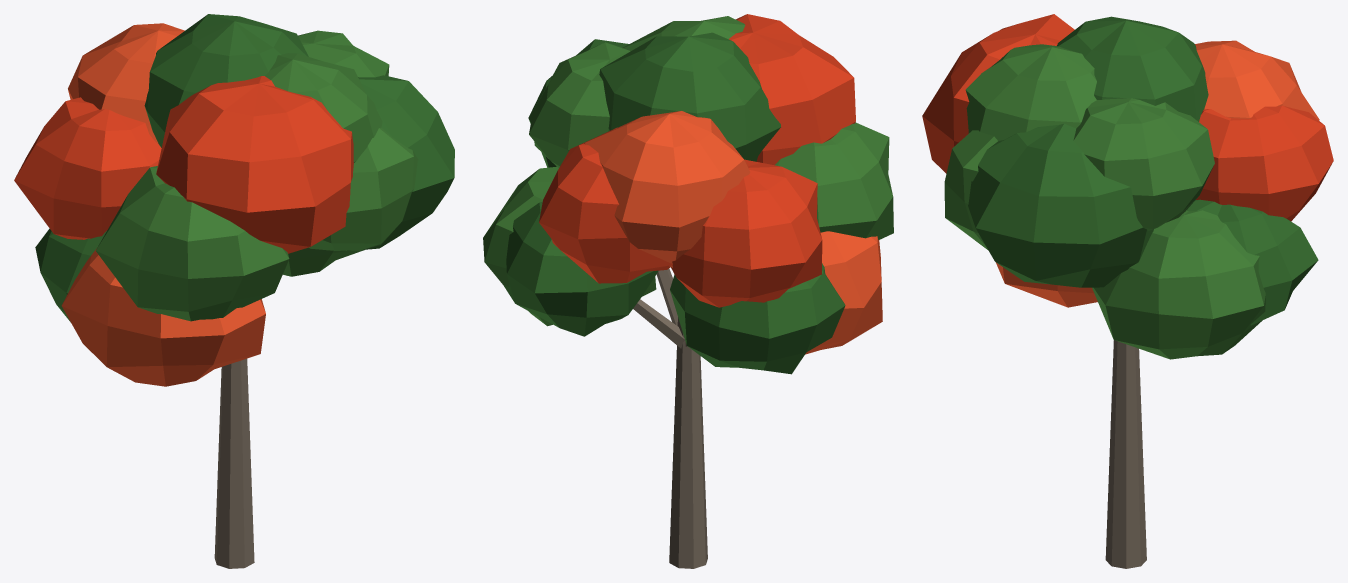
The model's file is tree_tulip_tree_large.glb.
The picture shows the model from 3 angles, left to right: view 1: azimuth 30°, elevation 25°; view 2: azimuth 150°, elevation 25°; view 3: azimuth 270°, elevation 25°; orthographic projection. The views are drawn at different scales.
Parts seen in each view (by area): view 1: tree_tulip_tree_large; view 2: tree_tulip_tree_large; view 3: tree_tulip_tree_large.
Part boxes in pixels (box(x1,y1,x2,y2)): tree_tulip_tree_large: box(14, 14, 454, 568); tree_tulip_tree_large: box(483, 14, 893, 568); tree_tulip_tree_large: box(922, 14, 1333, 568).
Bounding box in the file's own units: 12.51 × 18.16 × 12.55.
